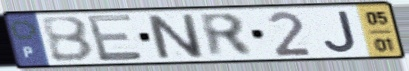2: (264, 9, 315, 59)
B: (38, 15, 97, 64)
E: (83, 12, 146, 64)
J: (322, 10, 360, 55)
N: (143, 12, 208, 61)
R: (195, 12, 257, 59)
